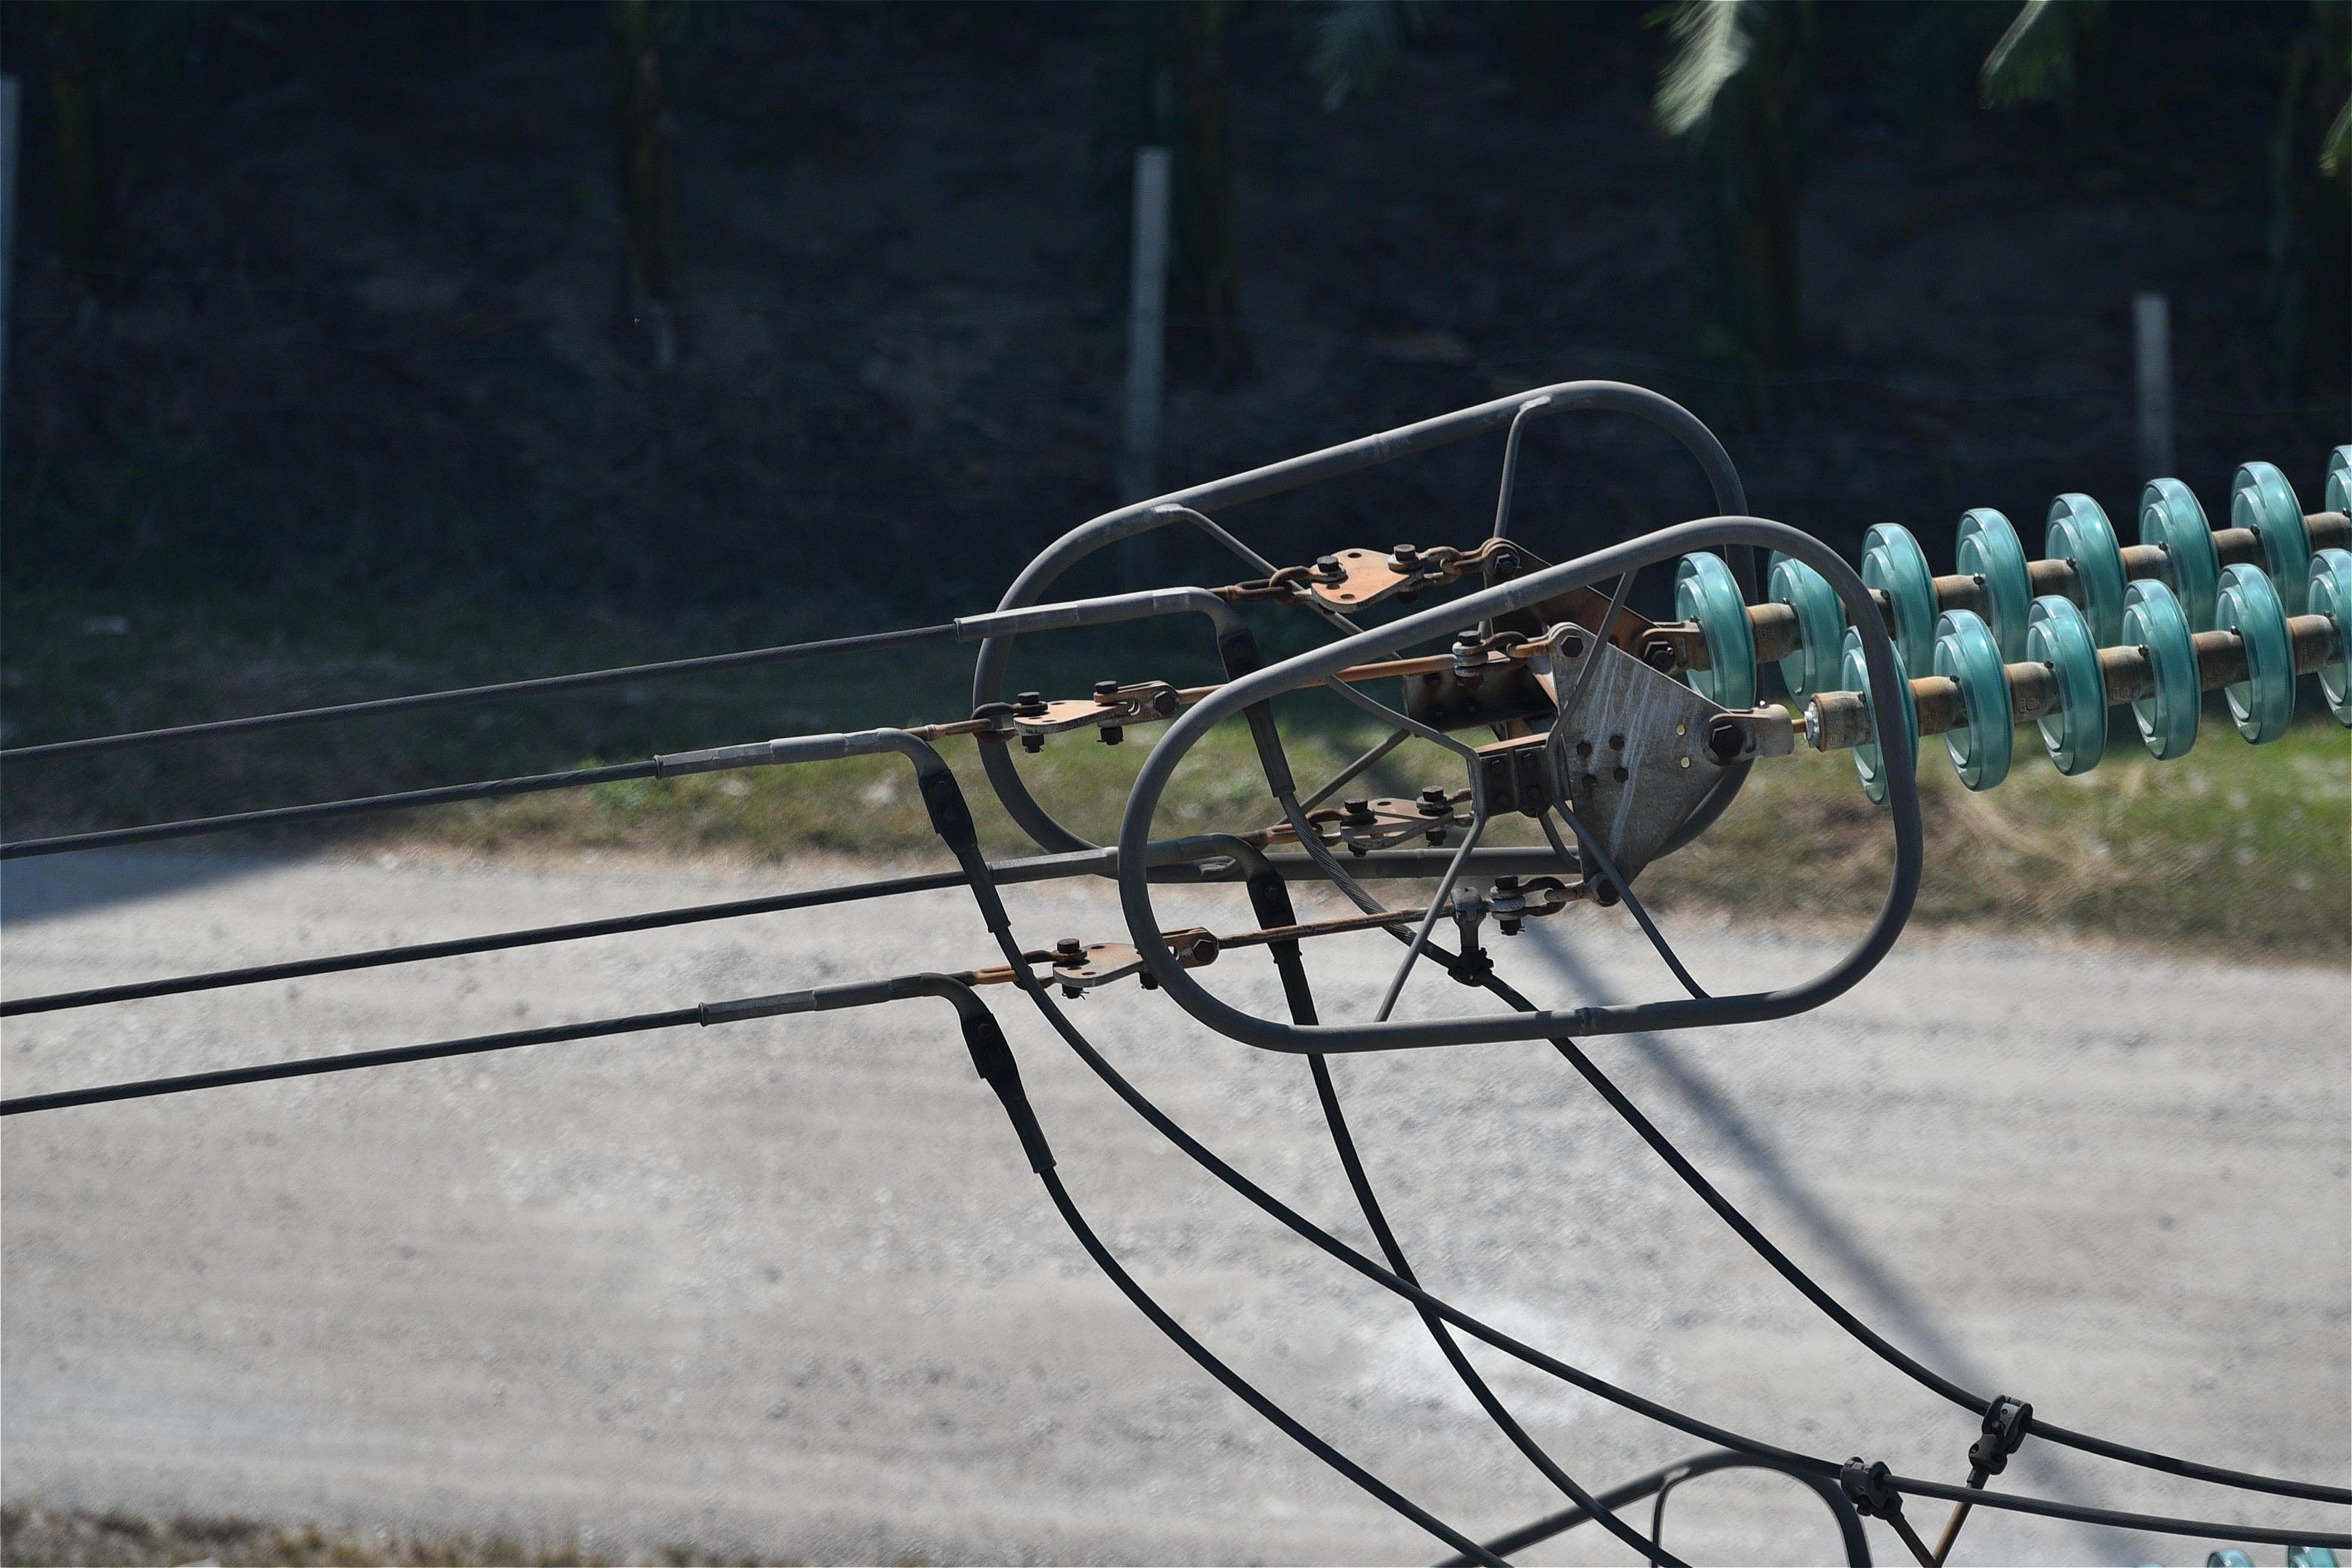insultor3: (1659, 322, 2352, 835)
